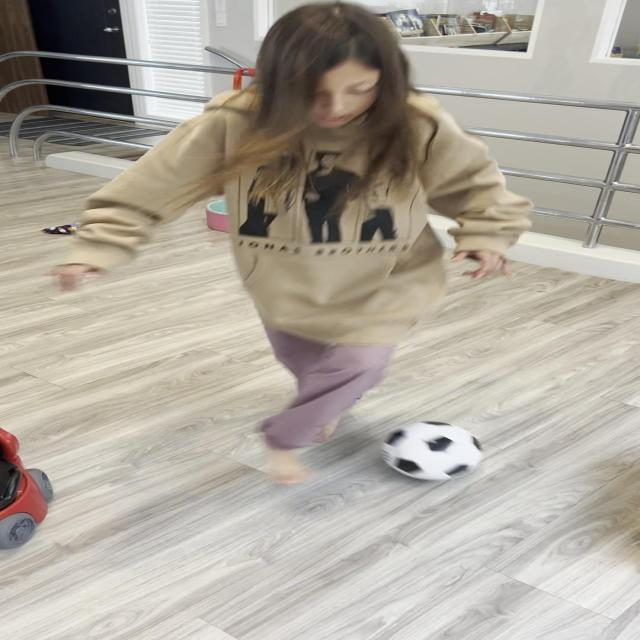Soccer Ball: (381, 421, 484, 480)
